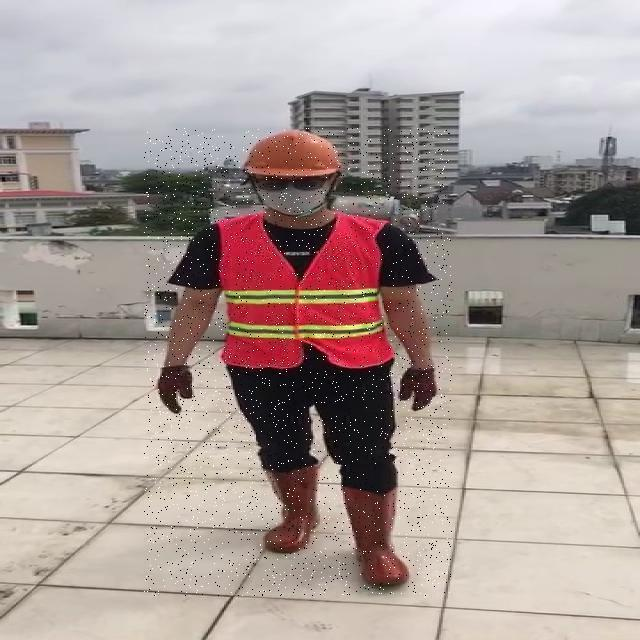gloves: (155, 364, 192, 415), (399, 367, 436, 412)
goggles: (254, 177, 329, 191)
helmet: (240, 129, 350, 178)
safety_vest: (222, 216, 384, 367)
